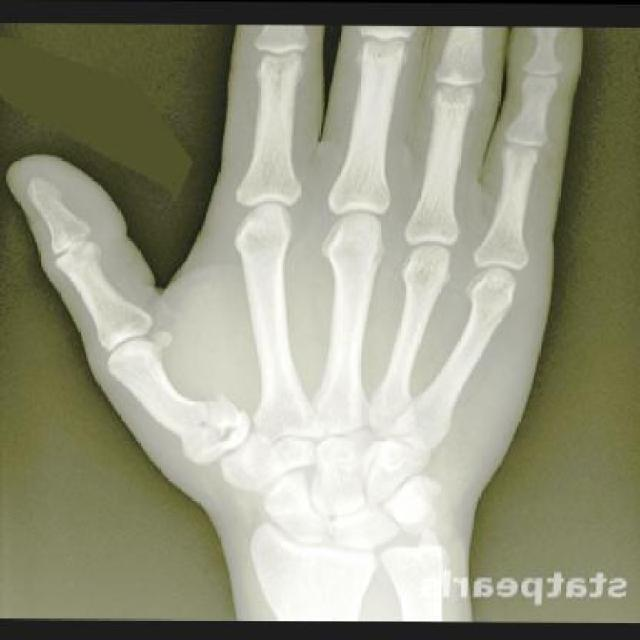Fracture: (182, 389, 248, 462)
